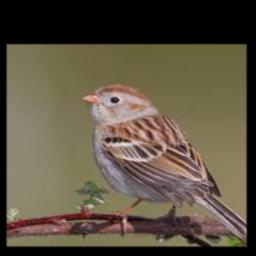Sparrow: (82, 84, 247, 243)
